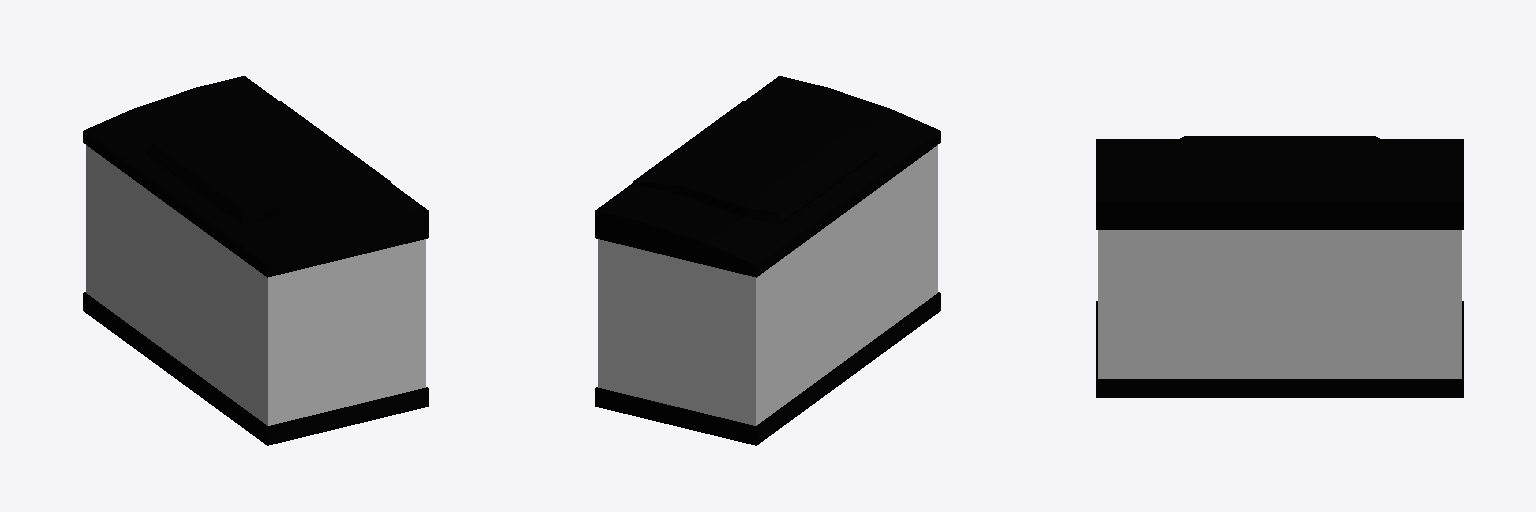
The model's file is FishTank.obj.
3 views of the same model, side by side, from view 1: azimuth 30°, elevation 25°; view 2: azimuth 150°, elevation 25°; view 3: azimuth 270°, elevation 25° (orthographic).
Parts seen in each view (by area): view 1: Fish_Tank_Cube.003; view 2: Fish_Tank_Cube.003; view 3: Fish_Tank_Cube.003.
Part boxes in pixels (x1,y1,x2,y2): Fish_Tank_Cube.003: (83, 76, 428, 445); Fish_Tank_Cube.003: (595, 76, 940, 445); Fish_Tank_Cube.003: (1096, 136, 1463, 397).
Size of the model in its own units: 1.29 by 1.57 by 2.55.